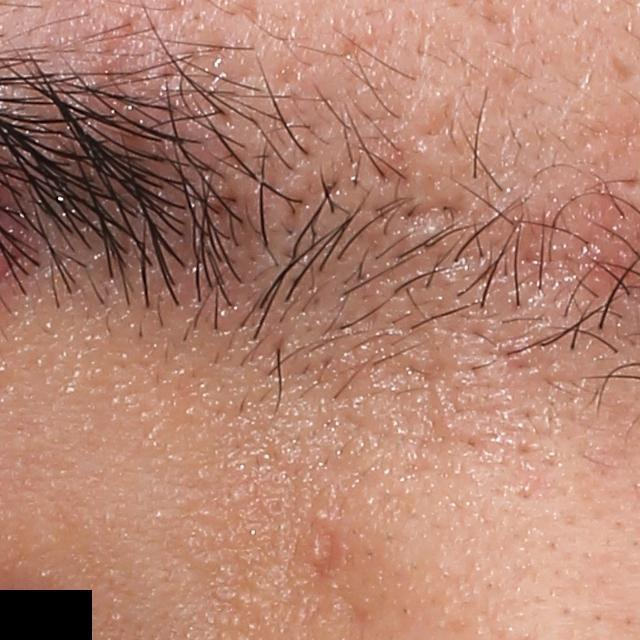atrophic_scar: (414, 96, 472, 161), (603, 51, 638, 84)
